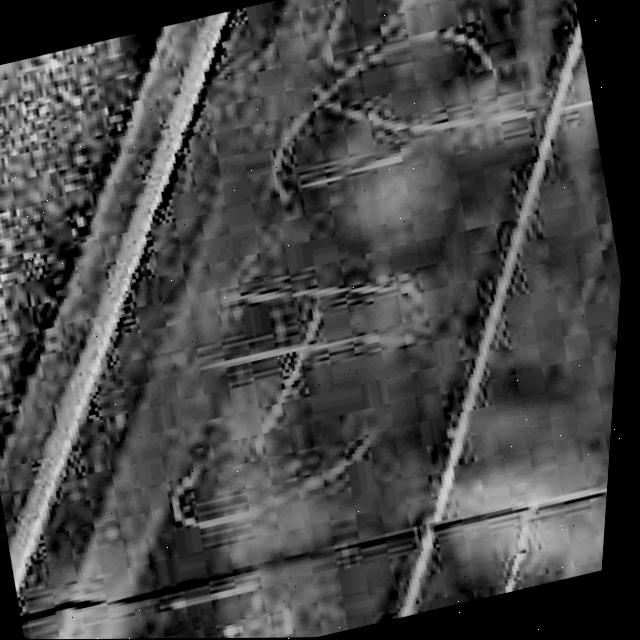door_scratch: (119, 246, 474, 553), (229, 0, 540, 214), (116, 556, 330, 639)
